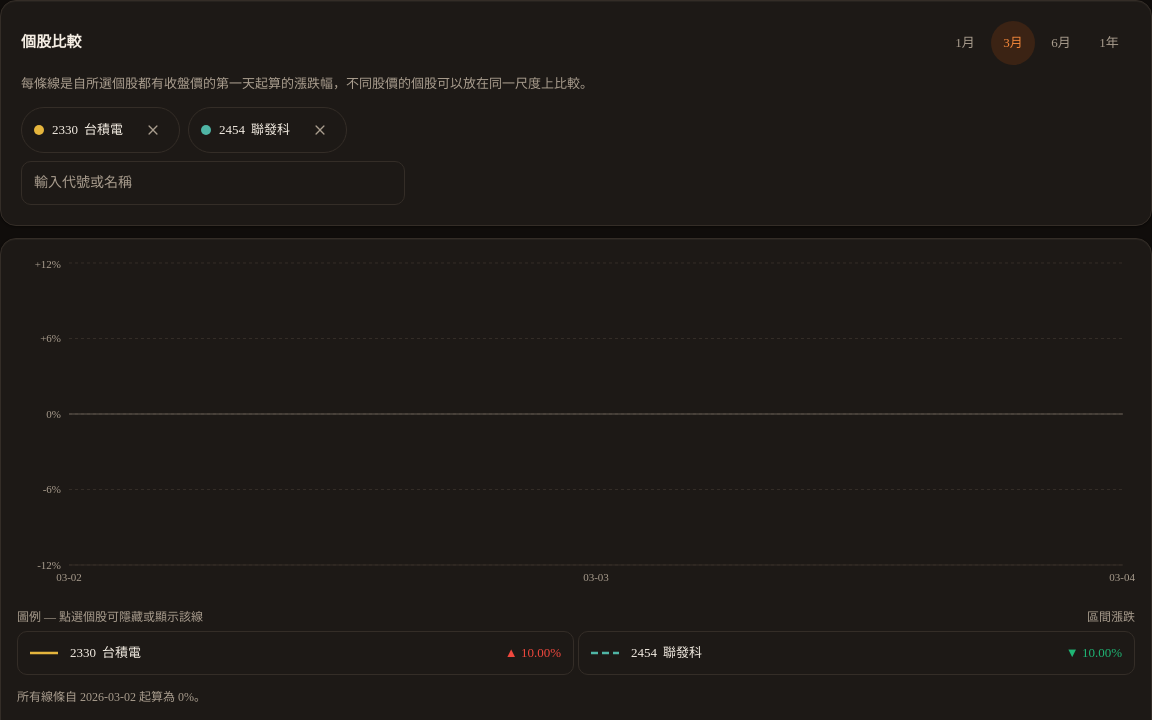
Test: StockComparePanel › toggles a line from the legend and reports the state with aria-pressed
What coordinates should you click on to do the following:
click the button "2330台積電 ▲ 10.00%"
I would click on:
 (122, 653)
Its box is top-left (17, 632), bottom-right (574, 676).
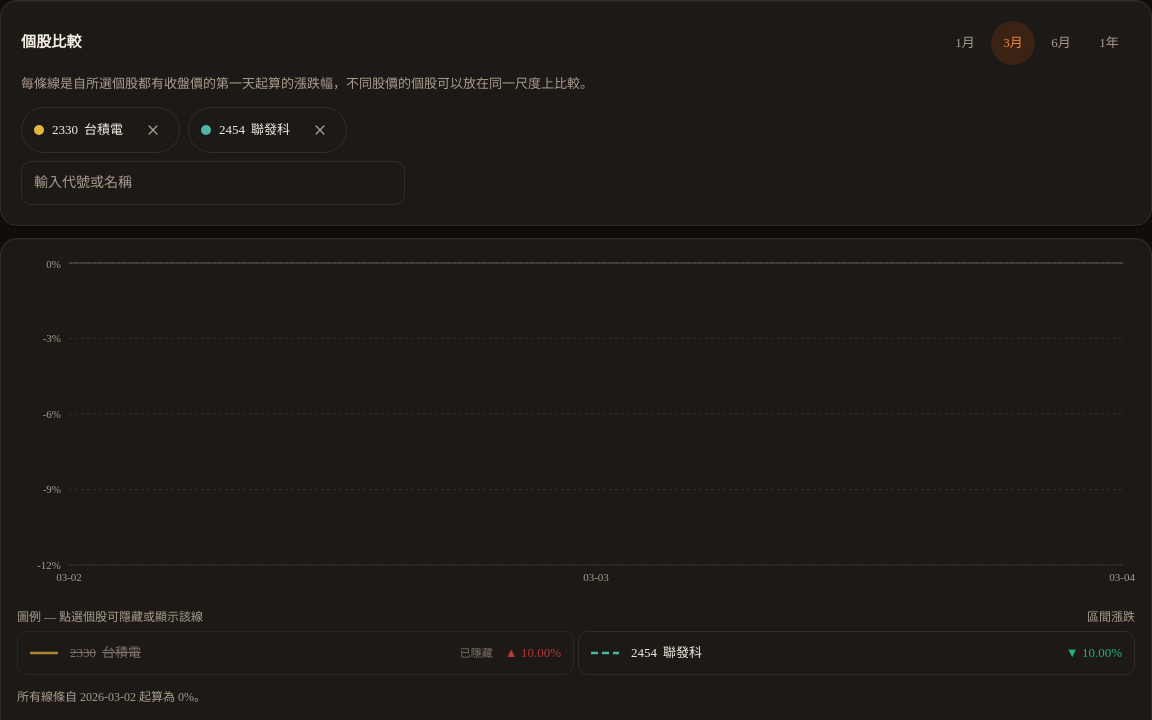
Check: the text "已隱藏" is shown, box top-left (460, 644), bottom-right (493, 663)
What coordinates should you click on to do the following:
click the button "2330台積電 已隱藏 ▲ 10.00%"
I would click on:
 (122, 653)
Its box is top-left (17, 632), bottom-right (574, 676).
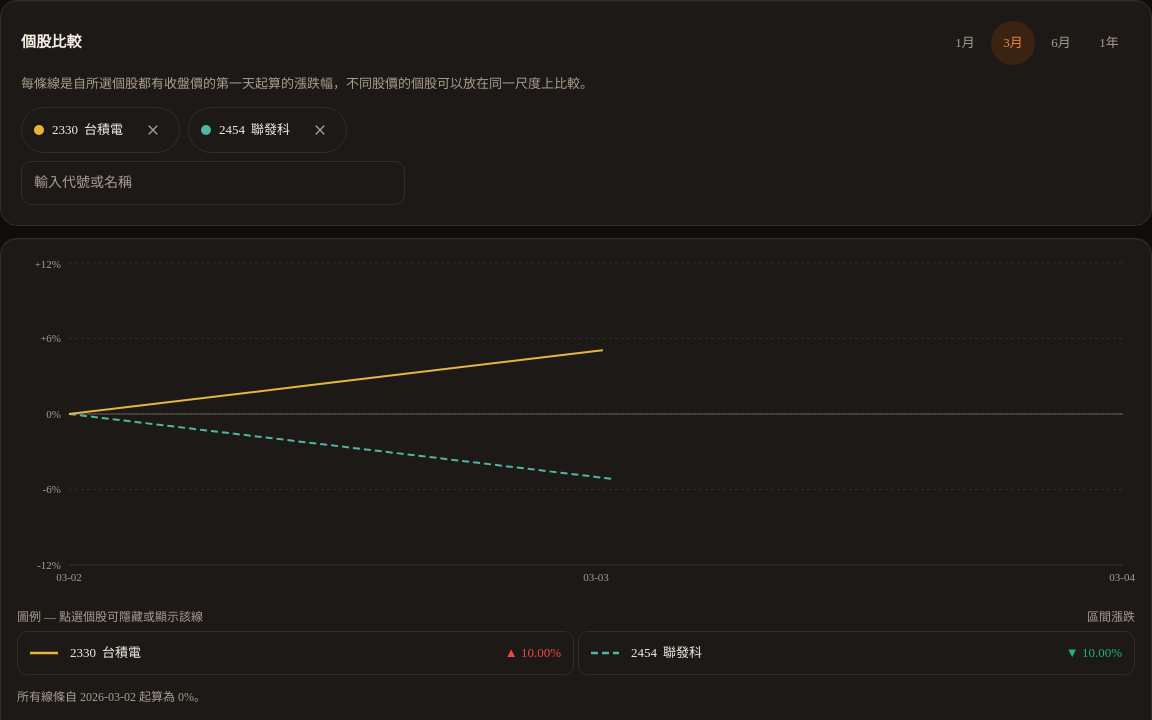
Check: the text "已隱藏" is gone
